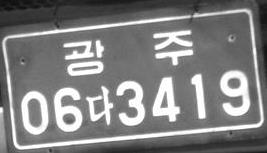0: (19, 89, 49, 136)
1: (186, 72, 211, 120)
3: (115, 79, 146, 128)
4: (151, 77, 181, 122)
6: (52, 86, 83, 132)
9: (218, 68, 251, 117)
광주_D: (62, 28, 194, 77)
다: (84, 85, 114, 127)
